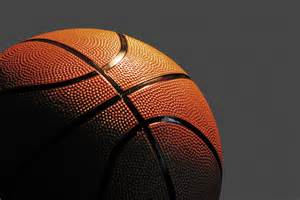basketball: (1, 26, 225, 200)
